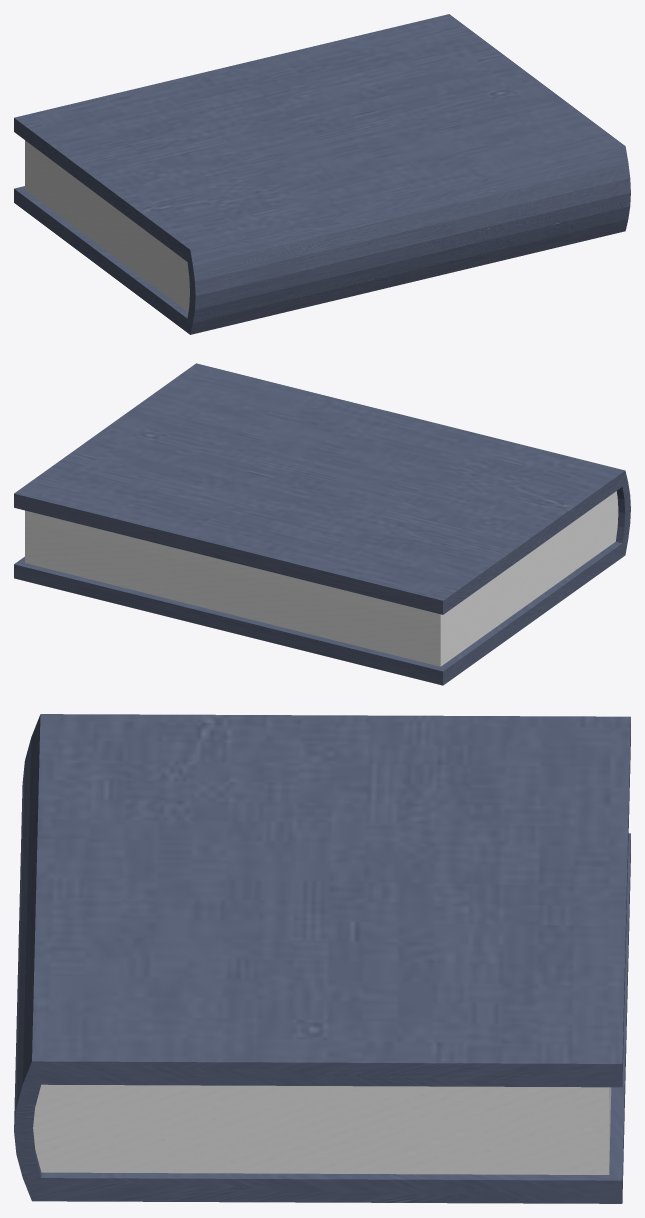
Rendered from book.fbx.
3 renders of one model, top to bottom at view 1: azimuth 30°, elevation 25°; view 2: azimuth 150°, elevation 25°; view 3: azimuth 270°, elevation 25°, orthographic. The views are drawn at different scales.
Parts seen in each view (by area): view 1: book; view 2: book; view 3: book.
Part boxes in pixels (x1,y1,x2,y2): book: [14, 14, 630, 334]; book: [14, 363, 630, 685]; book: [14, 714, 630, 1203].
Size of the model in its own units: 682 by 127 by 508.
